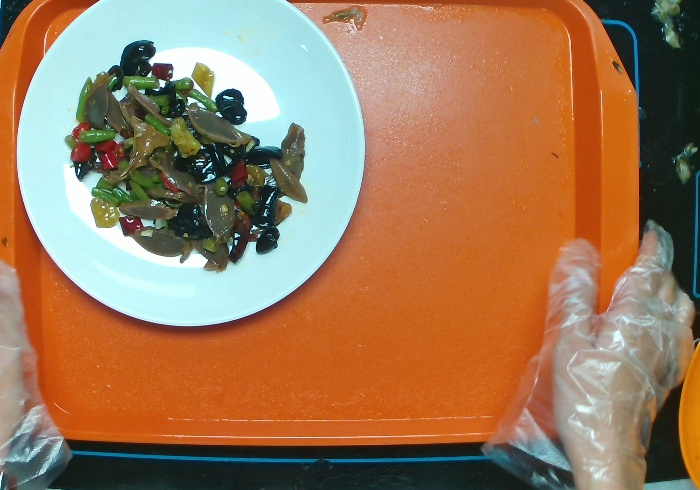HZYJPL-Bai_Se_Yuan_Pan: (10, 1, 371, 334)
